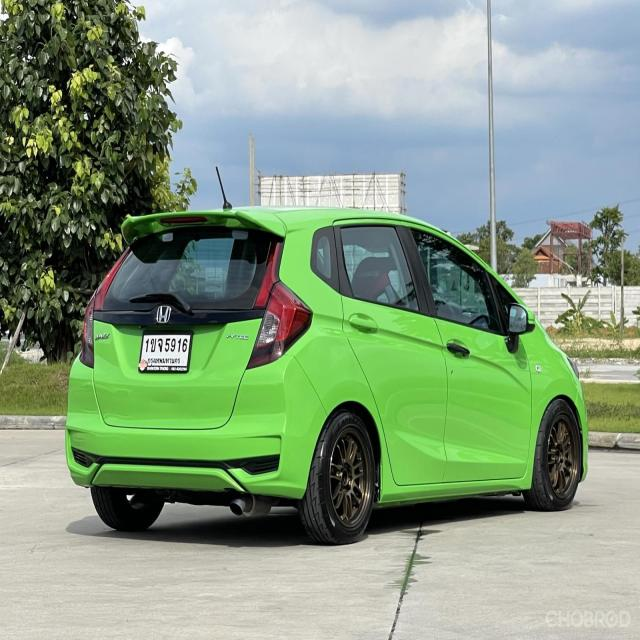license_plate: (138, 327, 193, 376)
